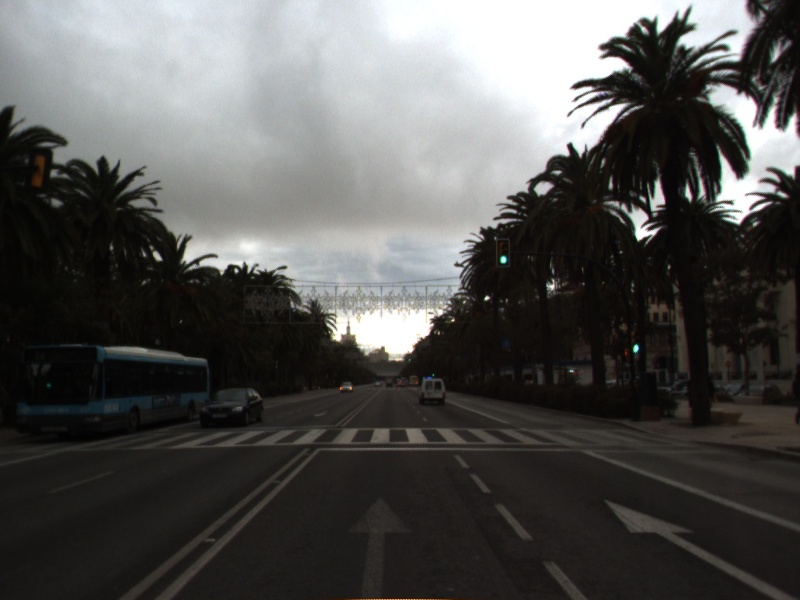STRAIGHT: (600, 495, 800, 600), (343, 493, 417, 600)
